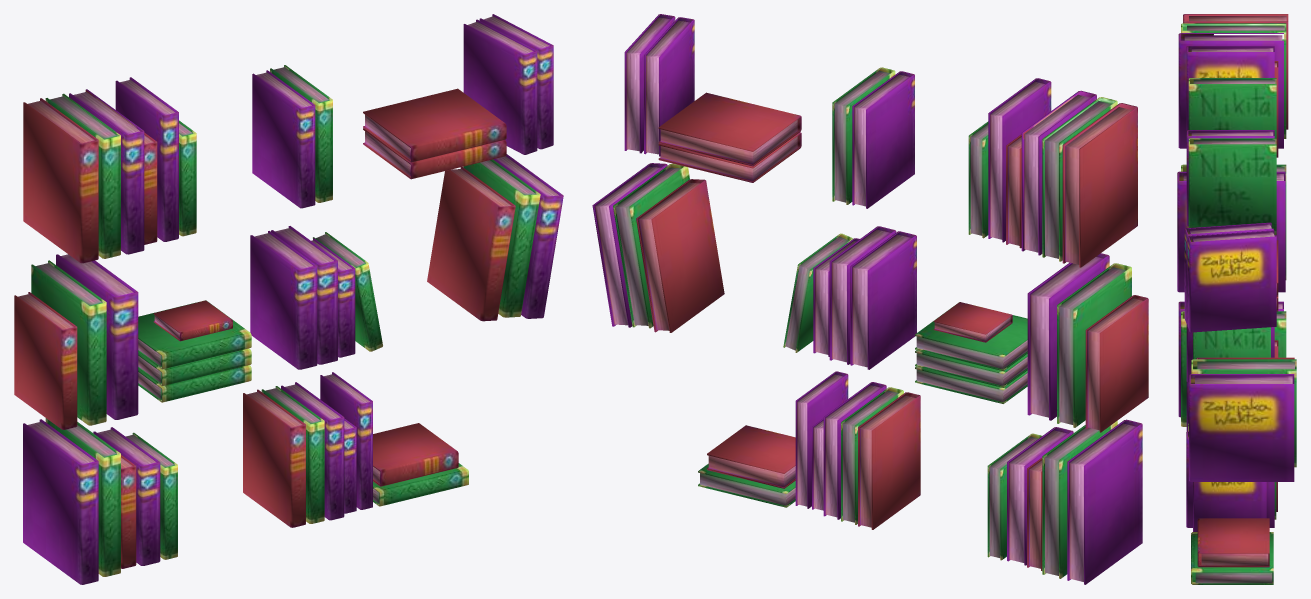
Rendered from bookshelvesExport1.fbx.
The picture shows the model from 3 angles, left to right: view 1: azimuth 30°, elevation 25°; view 2: azimuth 150°, elevation 25°; view 3: azimuth 270°, elevation 25°; orthographic projection. The views are drawn at different scales.
Visible parts, largest first — view 1: book.001; view 2: book.001; view 3: book.001.
Boxes of the visible parts, bbox=[...] form: book.001: bbox=[14, 14, 563, 584]; book.001: bbox=[592, 14, 1148, 584]; book.001: bbox=[1177, 14, 1296, 584].
Size of the model in its own units: 7.32 by 6.23 by 1.66.
